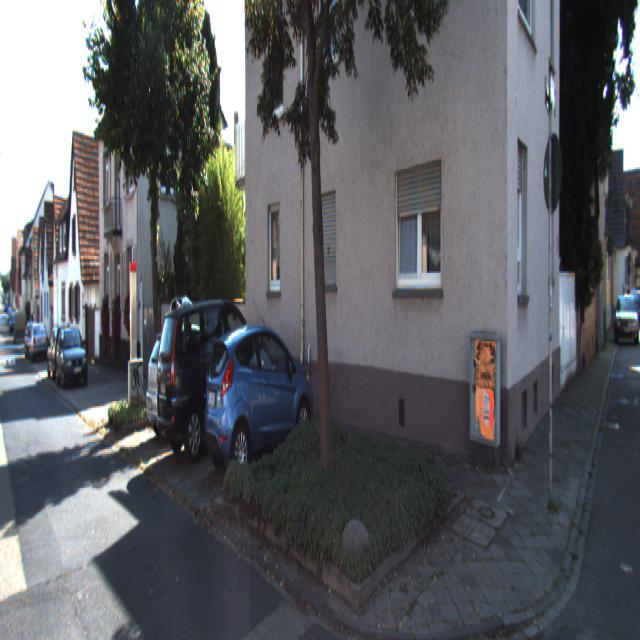Car: (152, 292, 275, 462), (200, 320, 316, 486), (55, 324, 89, 386)
